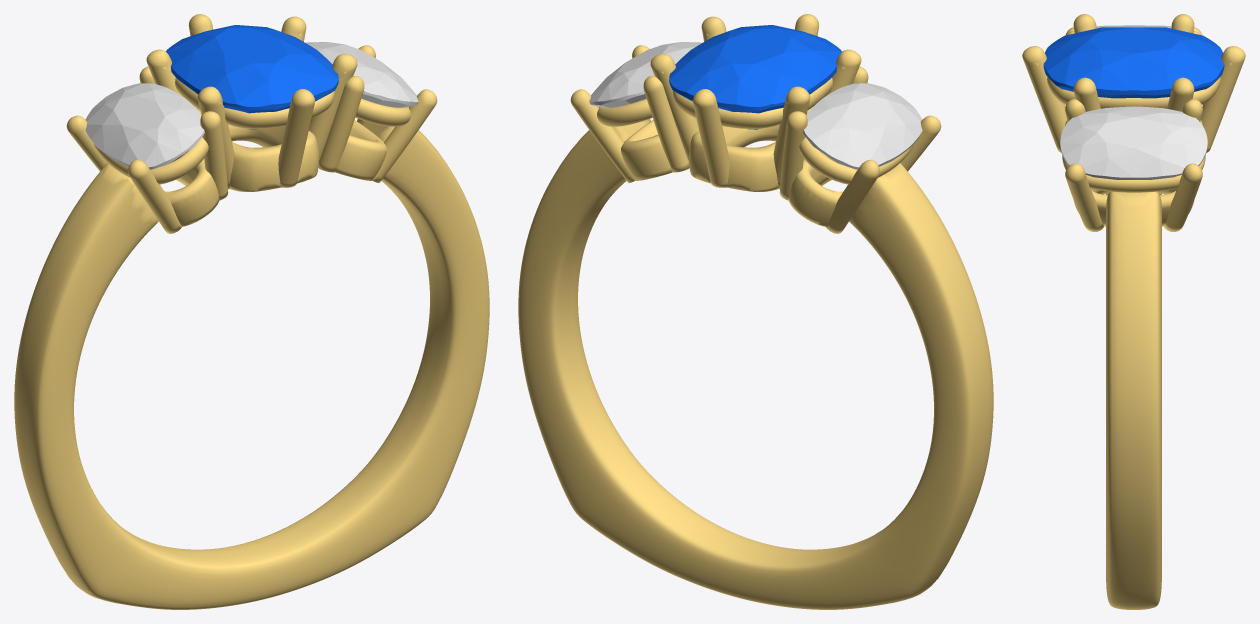
File: bluesapphire-cushion-yellowgold-6prong-europeanshank-3stone.glb
3 renders of one model, left to right at view 1: azimuth 30°, elevation 25°; view 2: azimuth 150°, elevation 25°; view 3: azimuth 270°, elevation 25°, orthographic. The views are drawn at different scales.
Parts seen in each view (by area): view 1: metal.003, stone.002, side.004, side.005; view 2: metal.003, stone.002, side.004, side.005; view 3: metal.003, stone.002, side.005.
Part boxes in pixels (bbox=[...]): metal.003: bbox=[14, 14, 489, 609]; stone.002: bbox=[166, 25, 338, 129]; side.004: bbox=[85, 83, 204, 169]; side.005: bbox=[306, 42, 418, 107]; metal.003: bbox=[518, 14, 993, 609]; stone.002: bbox=[669, 25, 841, 129]; side.004: bbox=[803, 83, 922, 169]; side.005: bbox=[589, 42, 701, 107]; metal.003: bbox=[1022, 14, 1245, 609]; stone.002: bbox=[1043, 27, 1224, 98]; side.005: bbox=[1060, 106, 1207, 179].
Size of the model in its own units: 20.11 by 23.04 by 8.8.
